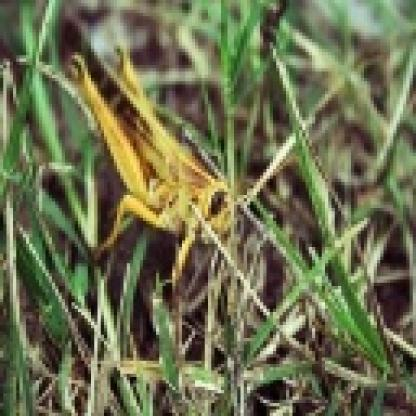grasshopper: (54, 38, 236, 284)
